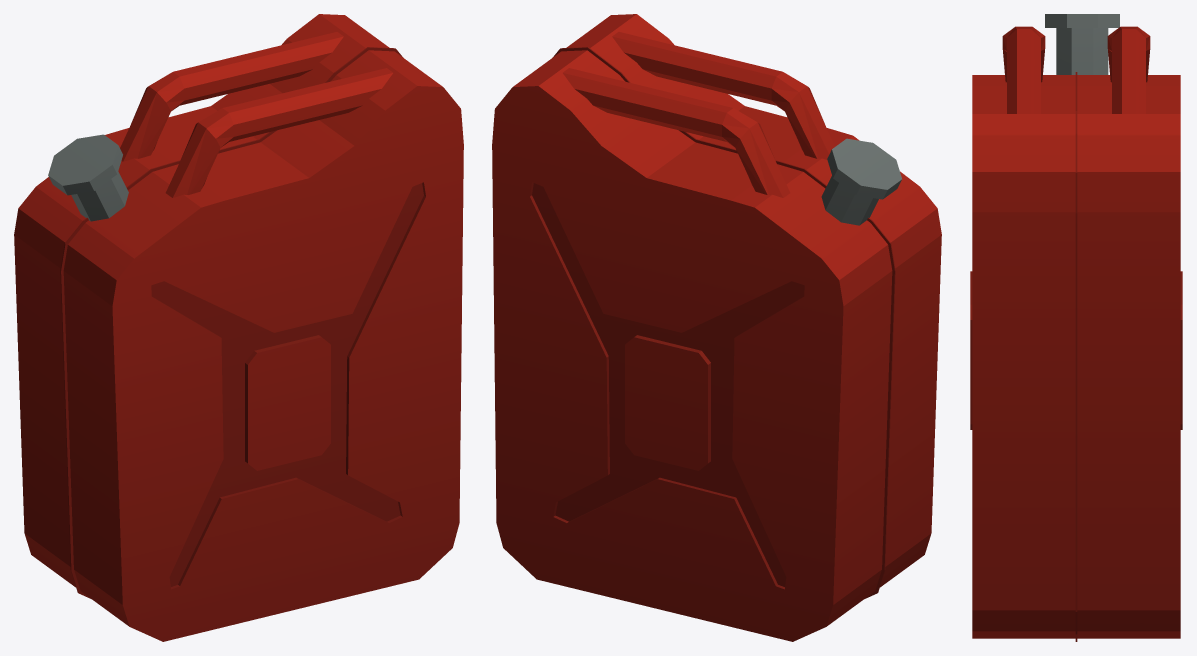
The model's file is Prop_Gas_Can_01.obj.
3 views of the same model, side by side, from view 1: azimuth 30°, elevation 25°; view 2: azimuth 150°, elevation 25°; view 3: azimuth 270°, elevation 25° (orthographic). The views are drawn at different scales.
Parts seen in each view (by area): view 1: Prop_Gas_Can_01; view 2: Prop_Gas_Can_01; view 3: Prop_Gas_Can_01.
Boxes of the visible parts, <box> form: Prop_Gas_Can_01: <box>14,14,463,641</box>; Prop_Gas_Can_01: <box>492,14,941,641</box>; Prop_Gas_Can_01: <box>970,14,1182,641</box>.
Bounding box in the file's own units: 0.3582 × 0.4761 × 0.1731.
Materials: 1 (1 with a texture image).
